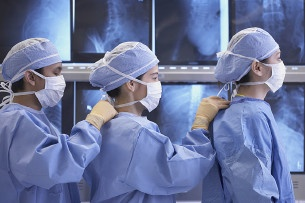Mask: (31, 63, 74, 106)
